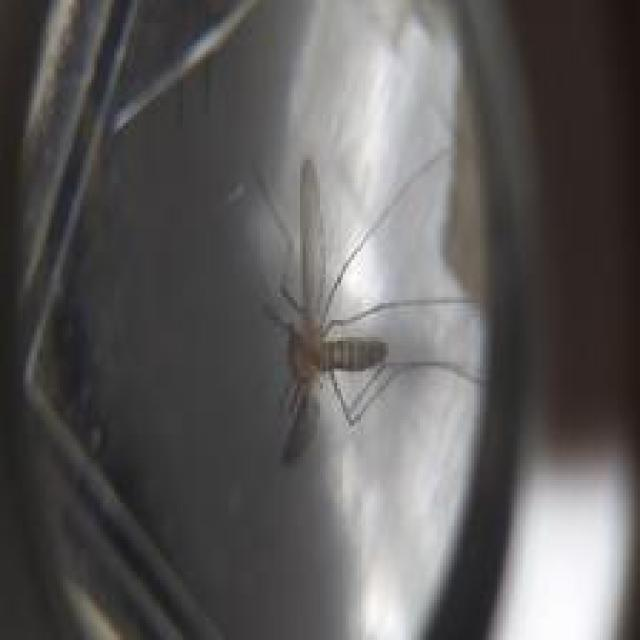Culex: (251, 144, 486, 464)
